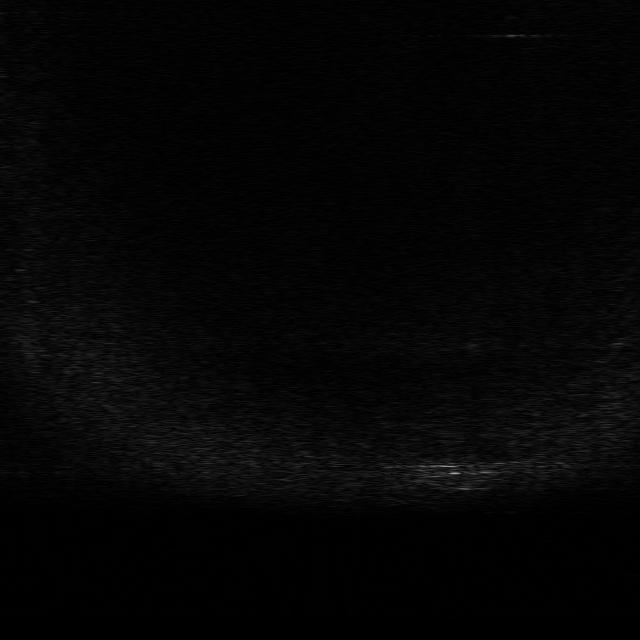plane: (411, 456, 530, 494)
